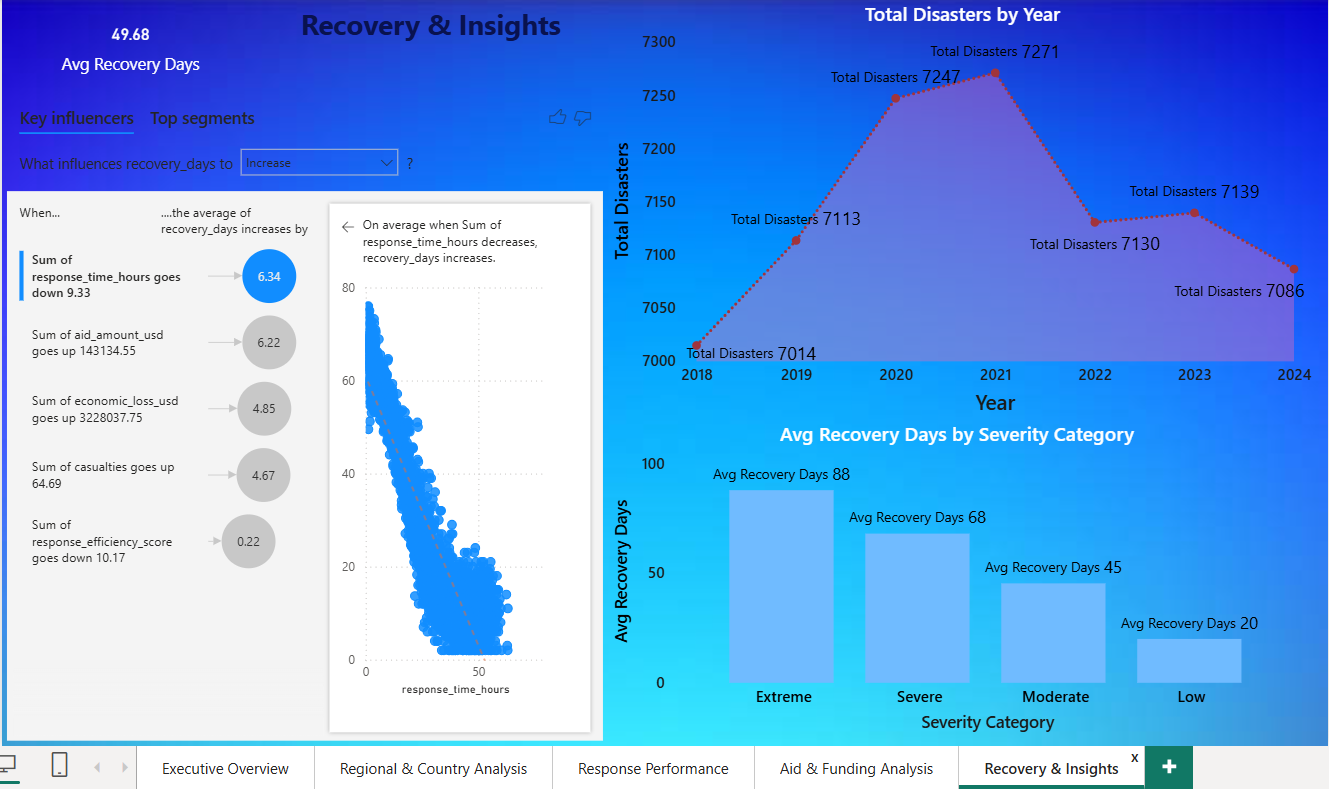

The dashboard page shown, as its layout file describes it:
{"tool":"powerbi","page":{"name":"Recovery & Insights","canvas":[1280,720],"ordinal":4},"visuals":[{"type":"lineChart","fields":{"Category":["DateTable.Year"],"Y":["global_disaster_response_2018_2024.Total Disasters"]},"box":[585.1,0,684.1,405.4],"z":0},{"type":"textbox","box":[254.6,0,318.5,60.3],"z":1000},{"type":"card","fields":{"Values":["global_disaster_response_2018_2024.Avg Recovery Days"]},"box":[12.1,0,224.4,89.3],"z":2000},{"type":"clusteredColumnChart","fields":{"Category":["global_disaster_response_2018_2024.Severity Category"],"Y":["global_disaster_response_2018_2024.Avg Recovery Days"]},"box":[585.1,405.4,673.2,306.4],"z":3000},{"type":"keyDriversVisual","fields":{"Target":["global_disaster_response_2018_2024.recovery_days"],"ExplainBy":["global_disaster_response_2018_2024.disaster_type","Sum(global_disaster_response_2018_2024.response_time_hours)","Sum(global_disaster_response_2018_2024.casualties)","Sum(global_disaster_response_2018_2024.economic_loss_usd)","Sum(global_disaster_response_2018_2024.aid_amount_usd)","Sum(global_disaster_response_2018_2024.response_efficiency_score)"]},"box":[0,89.3,585.1,631],"z":4000}]}

Visuals, with their boxes on the page's 1280x720 design canvas (x1, y1, x2, y2). These are canvas units, not pixel positions in the 1329x789 screenshot, which may show the page scaled, cropped or inside an application window:
lineChart - DateTable.Year x global_disaster_response_2018_2024.Total Disasters: bbox(585, 0, 1269, 405)
textbox: bbox(255, 0, 573, 60)
card - global_disaster_response_2018_2024.Avg Recovery Days: bbox(12, 0, 236, 89)
clusteredColumnChart - global_disaster_response_2018_2024.Severity Category x global_disaster_response_2018_2024.Avg Recovery Days: bbox(585, 405, 1258, 712)
keyDriversVisual - global_disaster_response_2018_2024.recovery_days x global_disaster_response_2018_2024.disaster_type: bbox(0, 89, 585, 720)
